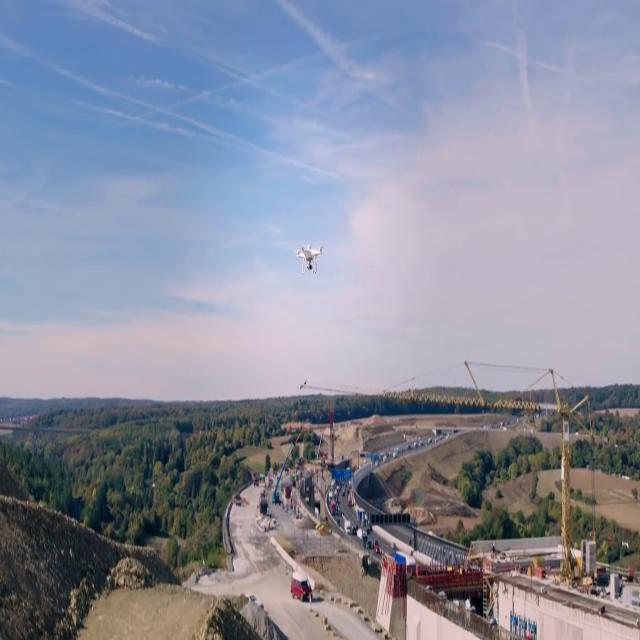drone: (292, 241, 326, 275)
